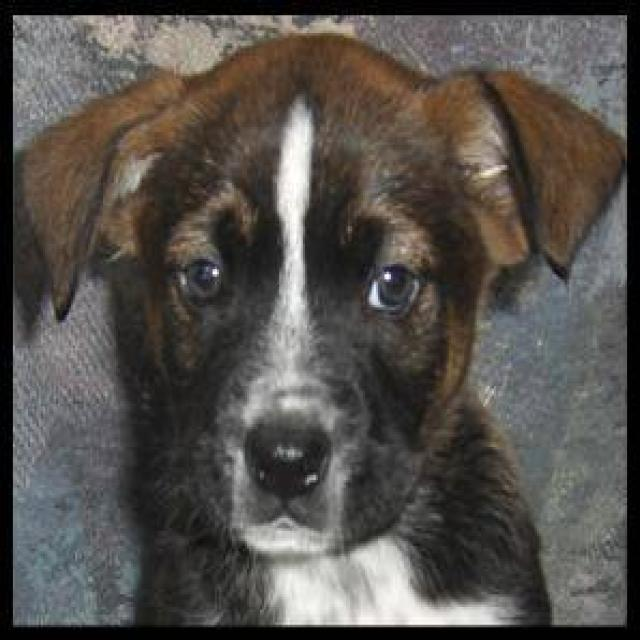dog: (13, 28, 625, 625)
